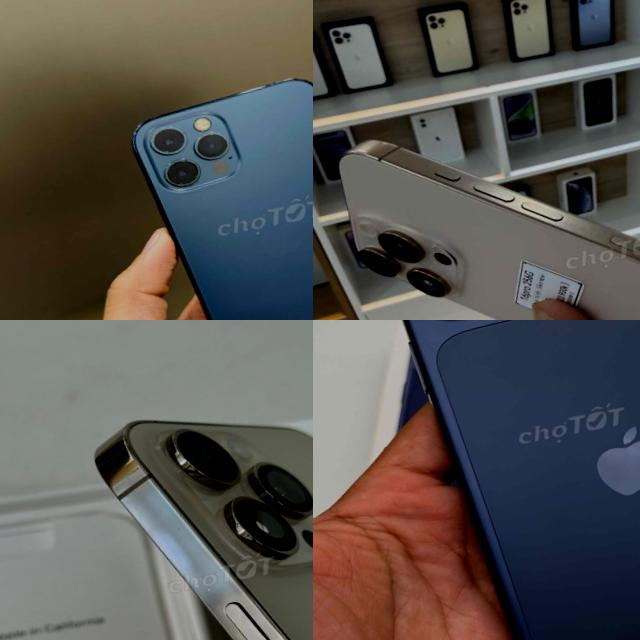gen_12_13: (128, 63, 313, 320)
gen_14: (89, 330, 313, 640)
gen_16: (318, 50, 640, 320)
gen_17: (351, 320, 640, 640)
